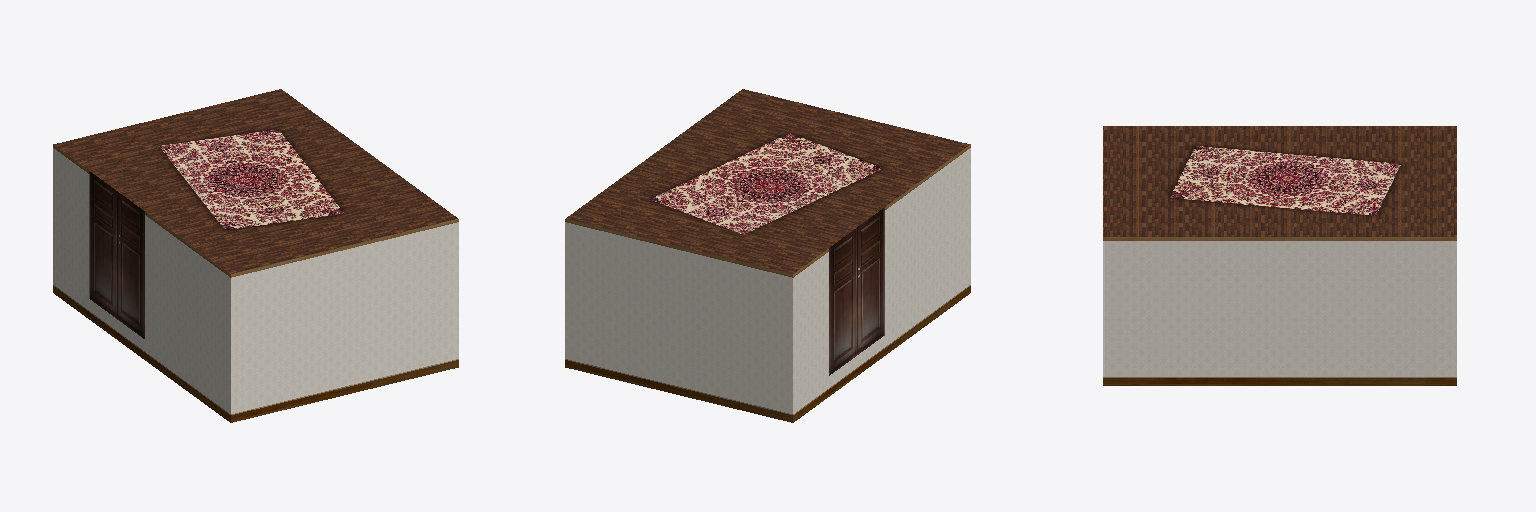
3 views of the same model, side by side, from view 1: azimuth 30°, elevation 25°; view 2: azimuth 150°, elevation 25°; view 3: azimuth 270°, elevation 25° (orthographic).
Parts seen in each view (by area): view 1: Cube; view 2: Cube; view 3: Cube.
Boxes of the visible parts, box(x1,y1,x2,y2) form: Cube: box(53, 89, 458, 422); Cube: box(565, 89, 970, 422); Cube: box(1103, 126, 1456, 385).
Bounding box in the file's own units: 10.34 × 6.46 × 13.94.
Materials: 1 (1 with a texture image).